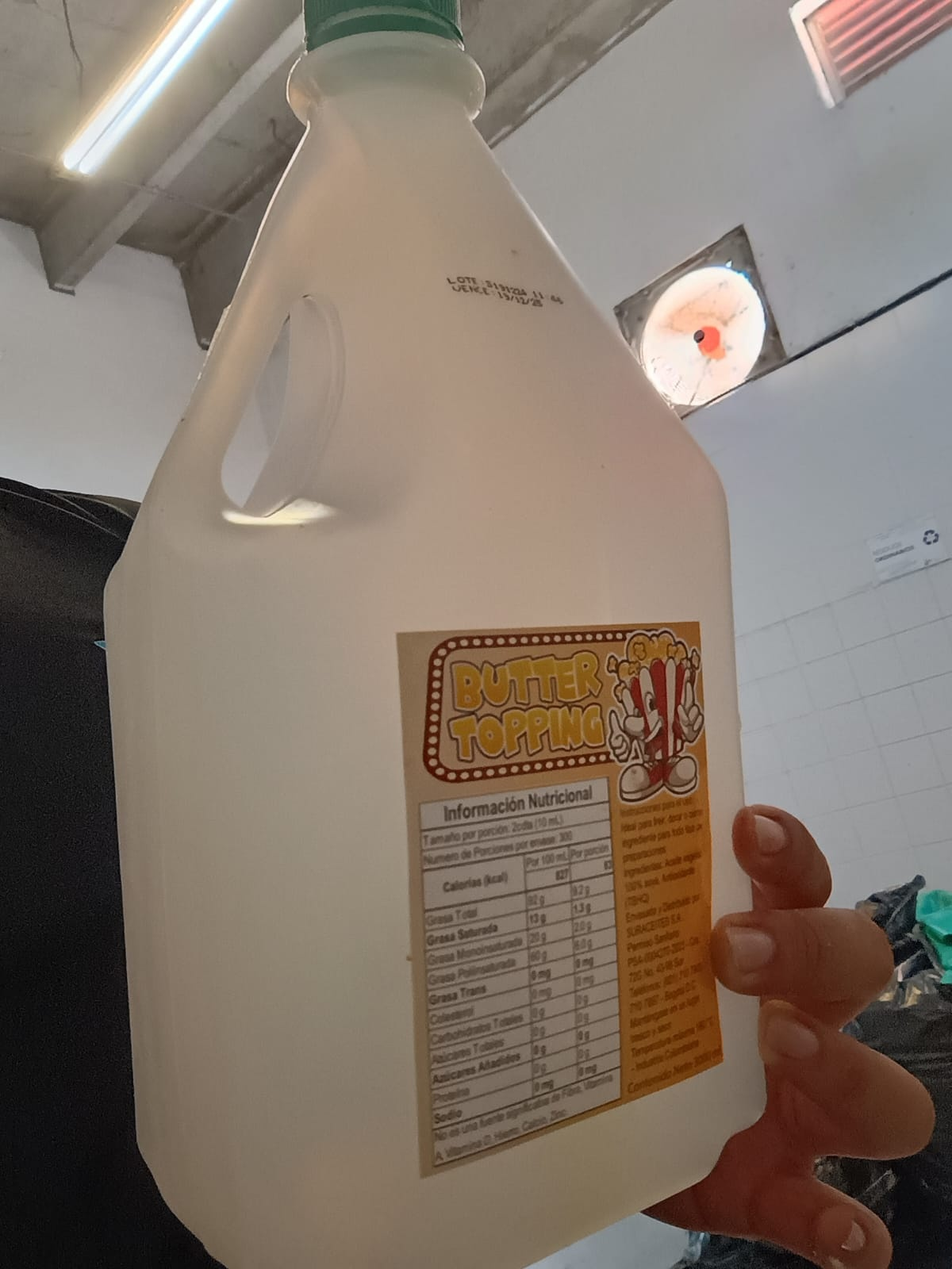Plastico: (103, 0, 770, 1269)
